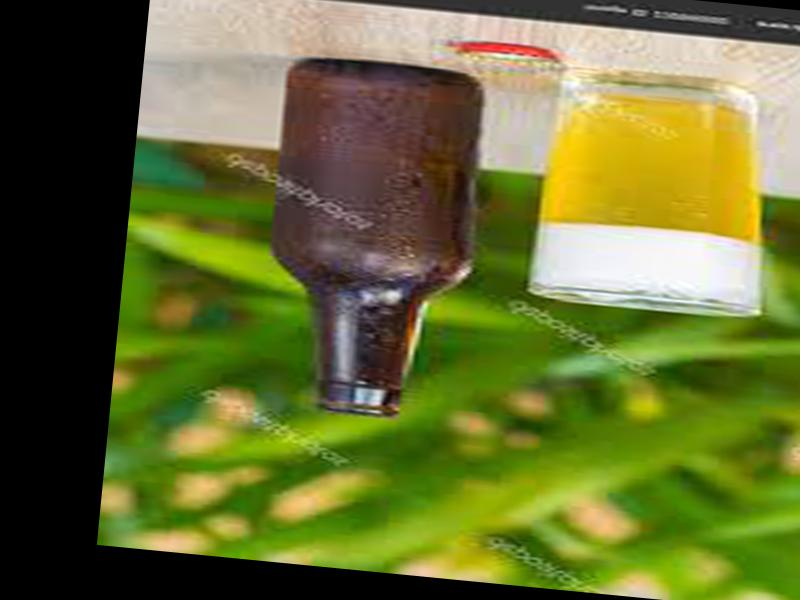Beer: (264, 52, 486, 421)
